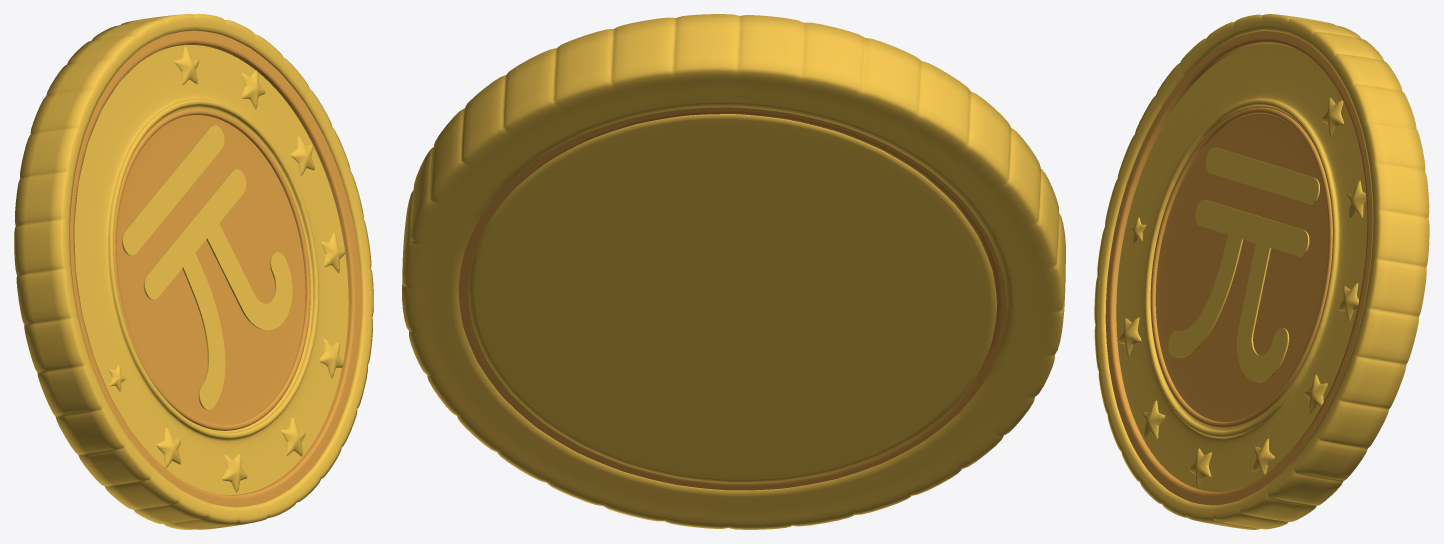
The model's file is yuan-coin-symbol-3d-animated-icon-1367475866056.glb.
3 renders of one model, left to right at view 1: azimuth 30°, elevation 25°; view 2: azimuth 150°, elevation 25°; view 3: azimuth 270°, elevation 25°, orthographic. The views are drawn at different scales.
Visible parts, largest first — view 1: Cylinder.001, Cylinder.007, Curve.001, Star.008, Star.007, Star.006, Star.001, Star.005, Star.002, Star.003, Star.004; view 2: Cylinder.001, Cylinder.007; view 3: Cylinder.001, Cylinder.007, Curve.001, Star.008, Star.007, Star.006, Star.001, Star.005, Star.004, Star.002, Star.003.
Boxes of the visible parts, bbox=[...] form: Cylinder.001: bbox=[14, 14, 373, 529]; Cylinder.007: bbox=[70, 30, 361, 507]; Curve.001: bbox=[121, 125, 292, 409]; Star.008: bbox=[156, 427, 180, 467]; Star.007: bbox=[222, 453, 247, 493]; Star.006: bbox=[281, 417, 305, 456]; Star.001: bbox=[175, 46, 199, 85]; Star.005: bbox=[319, 338, 343, 378]; Star.002: bbox=[241, 70, 265, 109]; Star.003: bbox=[290, 136, 314, 175]; Star.004: bbox=[321, 233, 345, 273]; Cylinder.001: bbox=[402, 14, 1065, 529]; Cylinder.007: bbox=[458, 107, 1006, 490]; Cylinder.001: bbox=[1094, 14, 1429, 529]; Cylinder.007: bbox=[1105, 31, 1372, 505]; Curve.001: bbox=[1168, 147, 1319, 382]; Star.008: bbox=[1118, 317, 1141, 356]; Star.007: bbox=[1143, 400, 1165, 439]; Star.006: bbox=[1189, 448, 1211, 487]; Star.001: bbox=[1322, 97, 1343, 136]; Star.005: bbox=[1252, 438, 1274, 475]; Star.004: bbox=[1305, 374, 1327, 414]; Star.002: bbox=[1347, 180, 1365, 218]; Star.003: bbox=[1338, 283, 1358, 321].
Size of what is drawn, in the model's own units: 1.98 by 2.04 by 1.37.
